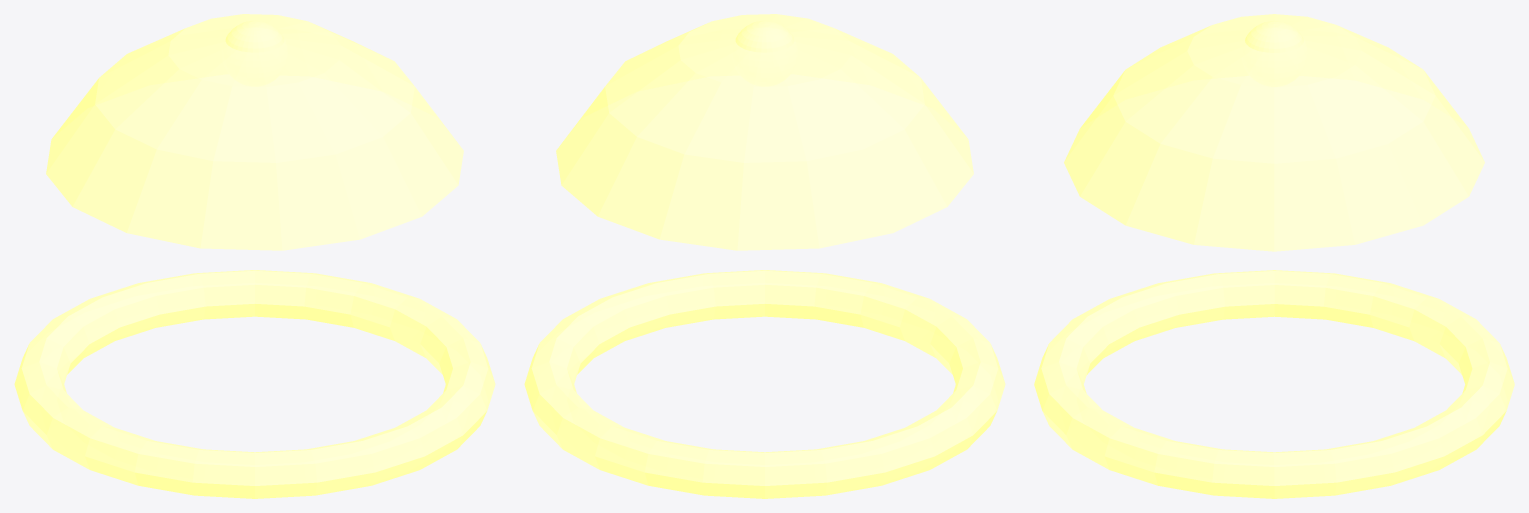
File: golden_bell_shield.glb
3 views of the same model, side by side, from view 1: azimuth 30°, elevation 25°; view 2: azimuth 150°, elevation 25°; view 3: azimuth 270°, elevation 25° (orthographic).
Visible parts, largest first — view 1: GoldenBellShield; view 2: GoldenBellShield; view 3: GoldenBellShield.
Part boxes in pixels (x1=…): GoldenBellShield: x1=14, y1=14, x2=495, y2=498; GoldenBellShield: x1=524, y1=14, x2=1005, y2=498; GoldenBellShield: x1=1034, y1=14, x2=1514, y2=498.
Size of the model in its own units: 1.16 by 1.02 by 1.16.
